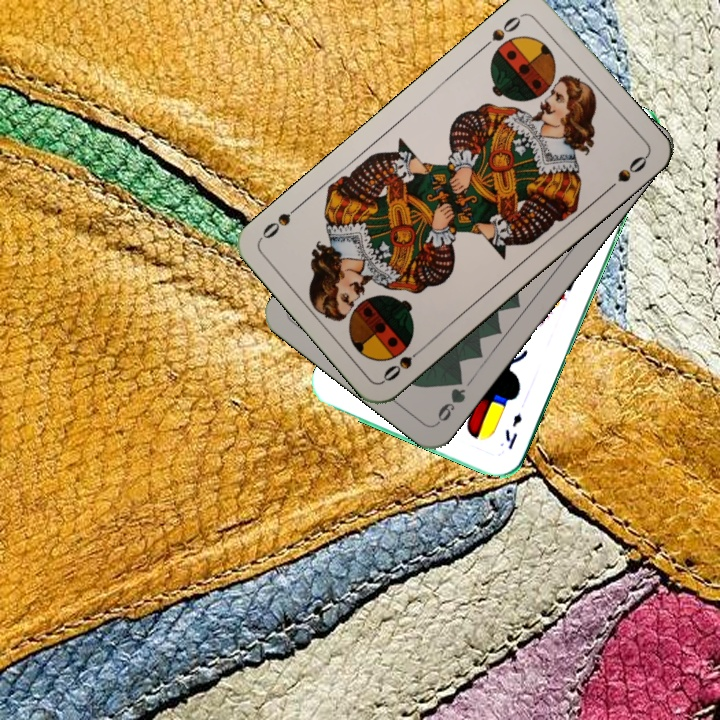EK: (500, 409, 525, 453)
G9: (432, 370, 469, 427)
SO: (378, 341, 429, 384), (477, 10, 527, 53)
